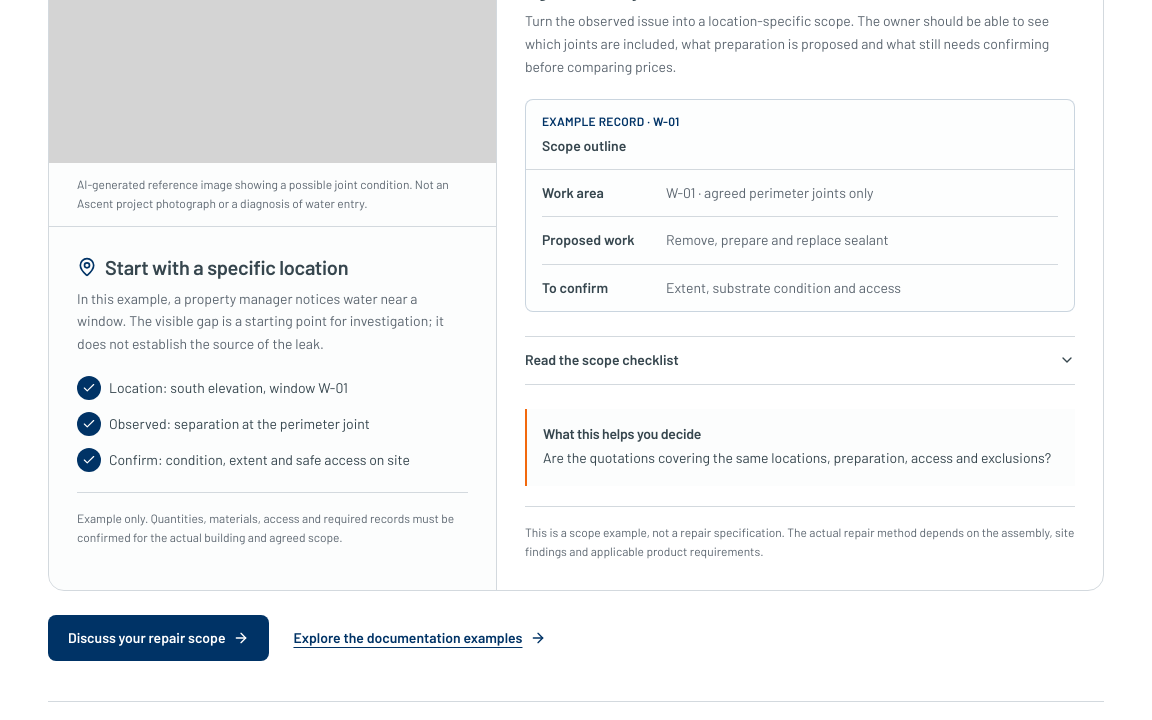
Test: homepage repair scope walkthrough › explains a single example without presenting a diagnosis or completed project
(page scrolled)
Check: the text "AI-generated reference image" is shown, box [77, 177, 449, 210]
Check: the text "does not establish the source of the leak" is shown, box [77, 290, 444, 352]
Click the heading "Read the scope checklist" at (602, 360), box [525, 351, 1075, 368]
(page scrolled)
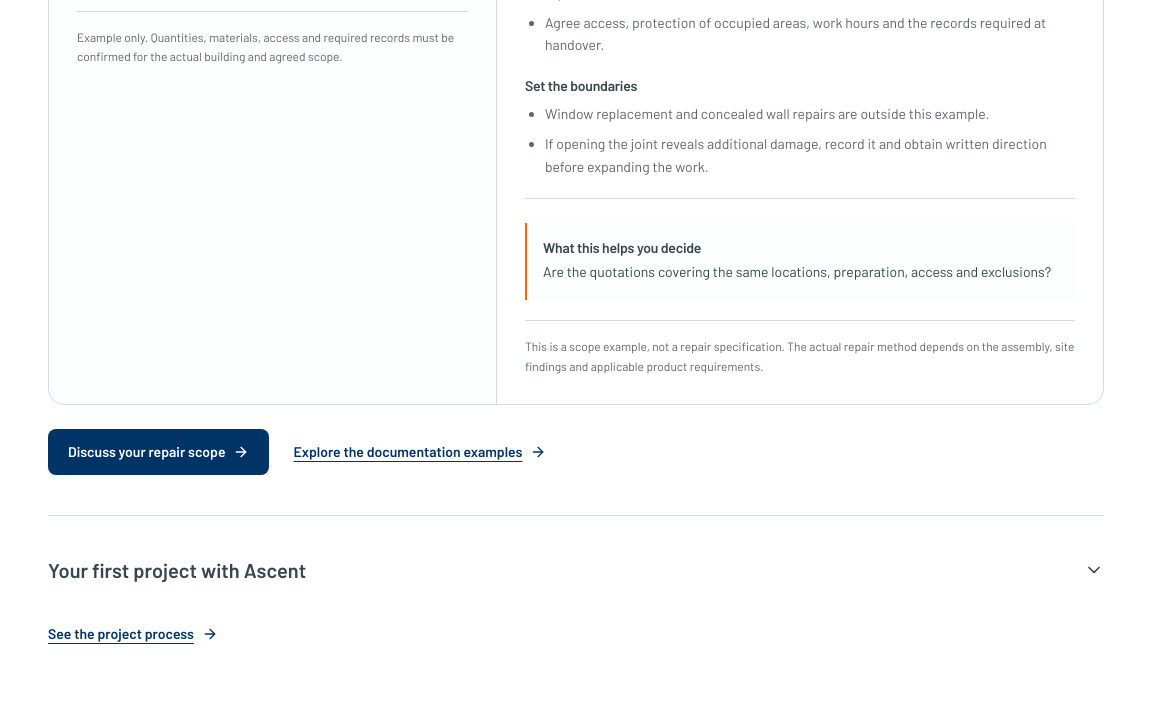
Check: the list item "Window replacement and concealed wall repairs are outside" is shown, box [545, 105, 989, 122]
